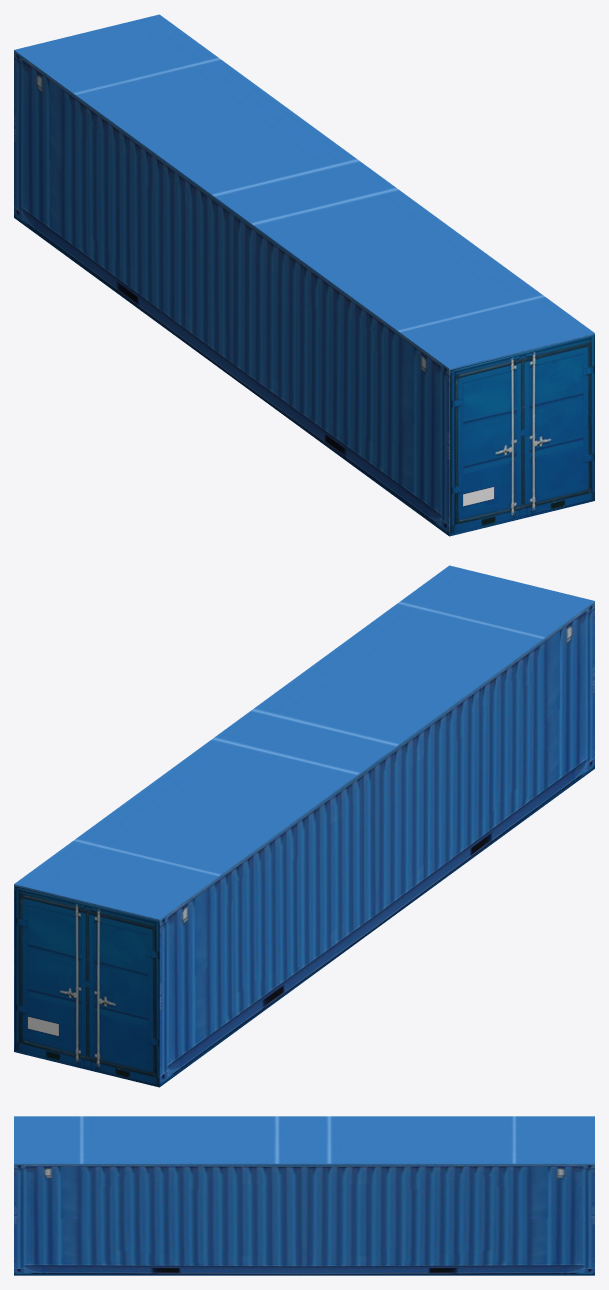
File: container40.dae
3 views of the same model, one above another, from view 1: azimuth 30°, elevation 25°; view 2: azimuth 150°, elevation 25°; view 3: azimuth 270°, elevation 25° (orthographic). The views are drawn at different scales.
Parts seen in each view (by area): view 1: cube7_Pts_Material_Surf; view 2: cube7_Pts_Material_Surf; view 3: cube7_Pts_Material_Surf.
Part boxes in pixels (left/top/right/bottom): cube7_Pts_Material_Surf: left=14, top=14, right=594, bottom=536; cube7_Pts_Material_Surf: left=14, top=565, right=594, bottom=1087; cube7_Pts_Material_Surf: left=14, top=1116, right=594, bottom=1275.
Bounding box in the file's own units: 23.54 × 25.94 × 122.
Materials: 1 (1 with a texture image).
